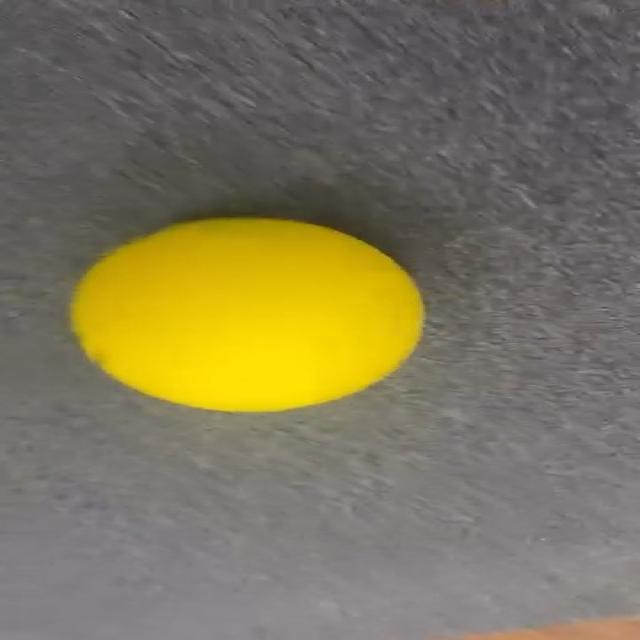Fuels: (69, 212, 430, 410)
